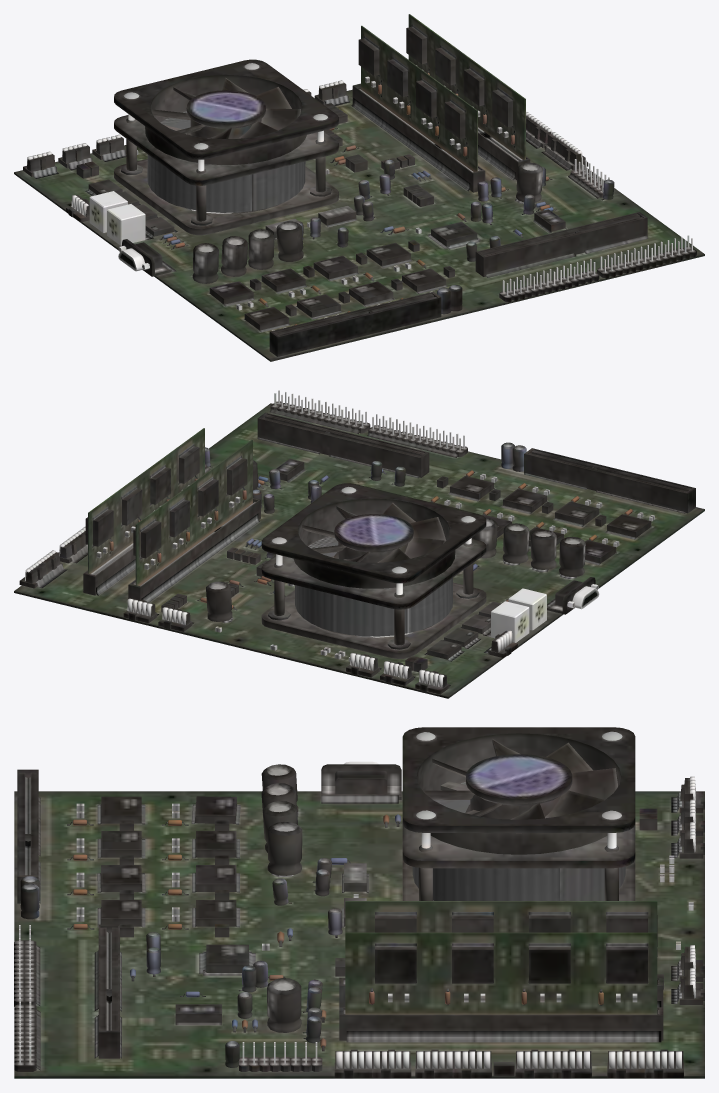
The model's file is circuitBoard.glb.
The picture shows the model from 3 angles, top to bottom: view 1: azimuth 30°, elevation 25°; view 2: azimuth 150°, elevation 25°; view 3: azimuth 270°, elevation 25°; orthographic projection. The views are drawn at different scales.
Visible parts, largest first — view 1: circuit_board; view 2: circuit_board; view 3: circuit_board.
Boxes of the visible parts, bbox=[...] form: circuit_board: bbox=[14, 14, 704, 361]; circuit_board: bbox=[14, 390, 704, 698]; circuit_board: bbox=[14, 727, 704, 1078].
Bounding box in the file's own units: 0.4035 × 0.0783 × 0.3974.
Materials: 2 (2 with a texture image).
